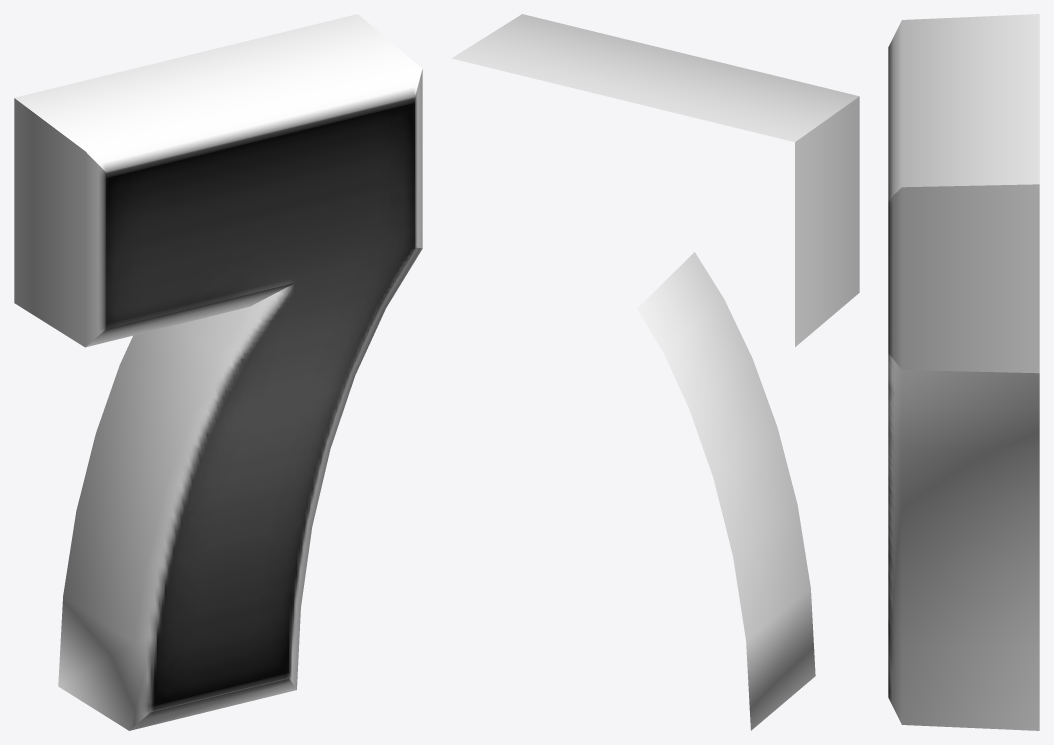
Rendered from bbl_score_model__score_7b.glb.
3 renders of one model, left to right at view 1: azimuth 30°, elevation 25°; view 2: azimuth 150°, elevation 25°; view 3: azimuth 270°, elevation 25°, orthographic.
Parts seen in each view (by area): view 1: polygon0, polygon1; view 2: polygon0; view 3: polygon0.
Boxes of the visible parts, x1,y1,x2,y2 form: polygon0: (14,14,422,730); polygon1: (106,97,414,712); polygon0: (451,14,859,730); polygon0: (888,14,1039,730).
Size of the model in its own units: 2.92 by 4.88 by 1.1.
Materials: 2 (2 with a texture image).
